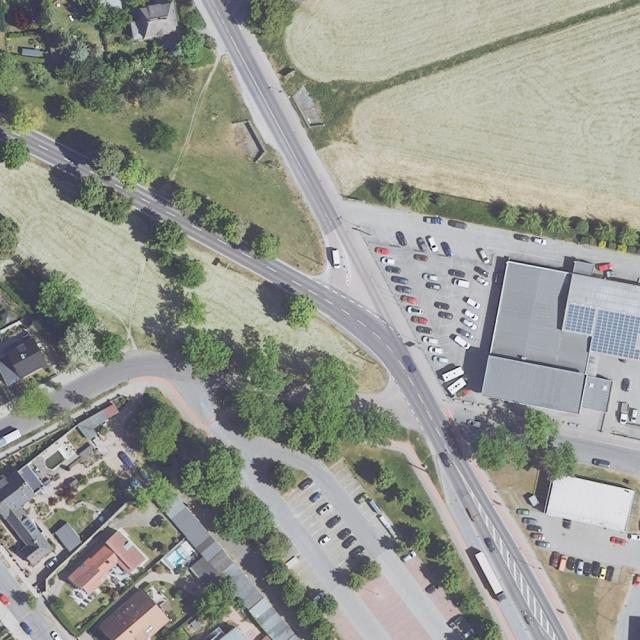PV: (591, 309, 640, 359), (566, 303, 595, 334)
ST: (25, 521, 36, 532)
